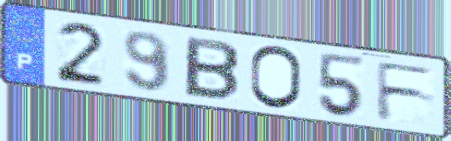2: (53, 20, 110, 89)
5: (315, 49, 366, 120)
9: (120, 29, 172, 94)
B: (181, 34, 242, 104)
F: (373, 59, 438, 123)
O: (247, 44, 305, 113)
